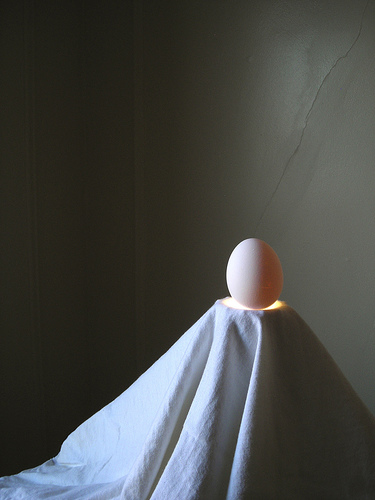egg: (222, 235, 283, 311)
